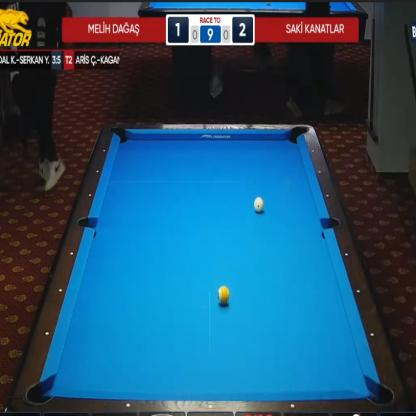Ball: (218, 285, 230, 305), (254, 196, 263, 213)
